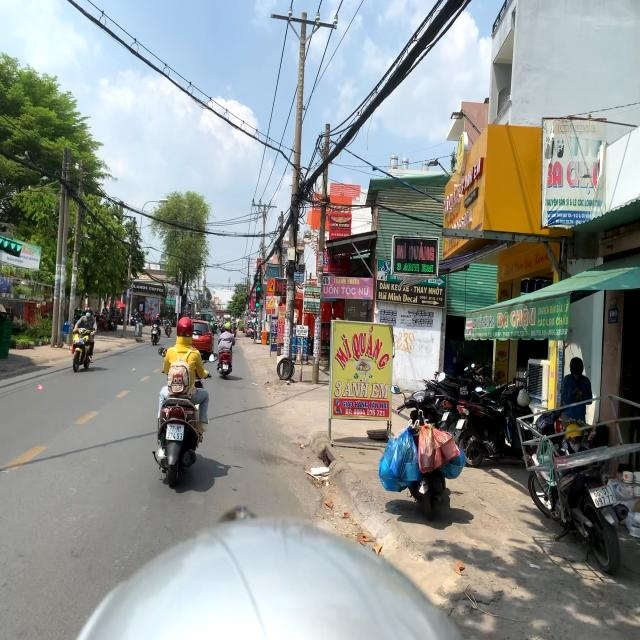bien_nguy_hiem: (266, 296, 277, 309)
